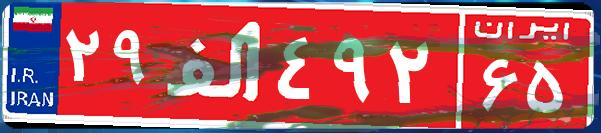2: (385, 28, 445, 110), (57, 26, 110, 107)
4: (273, 28, 330, 110)
5: (525, 38, 570, 115)
6: (475, 38, 525, 113)
9: (330, 28, 385, 110), (110, 28, 158, 105)
الف: (158, 15, 273, 115)
